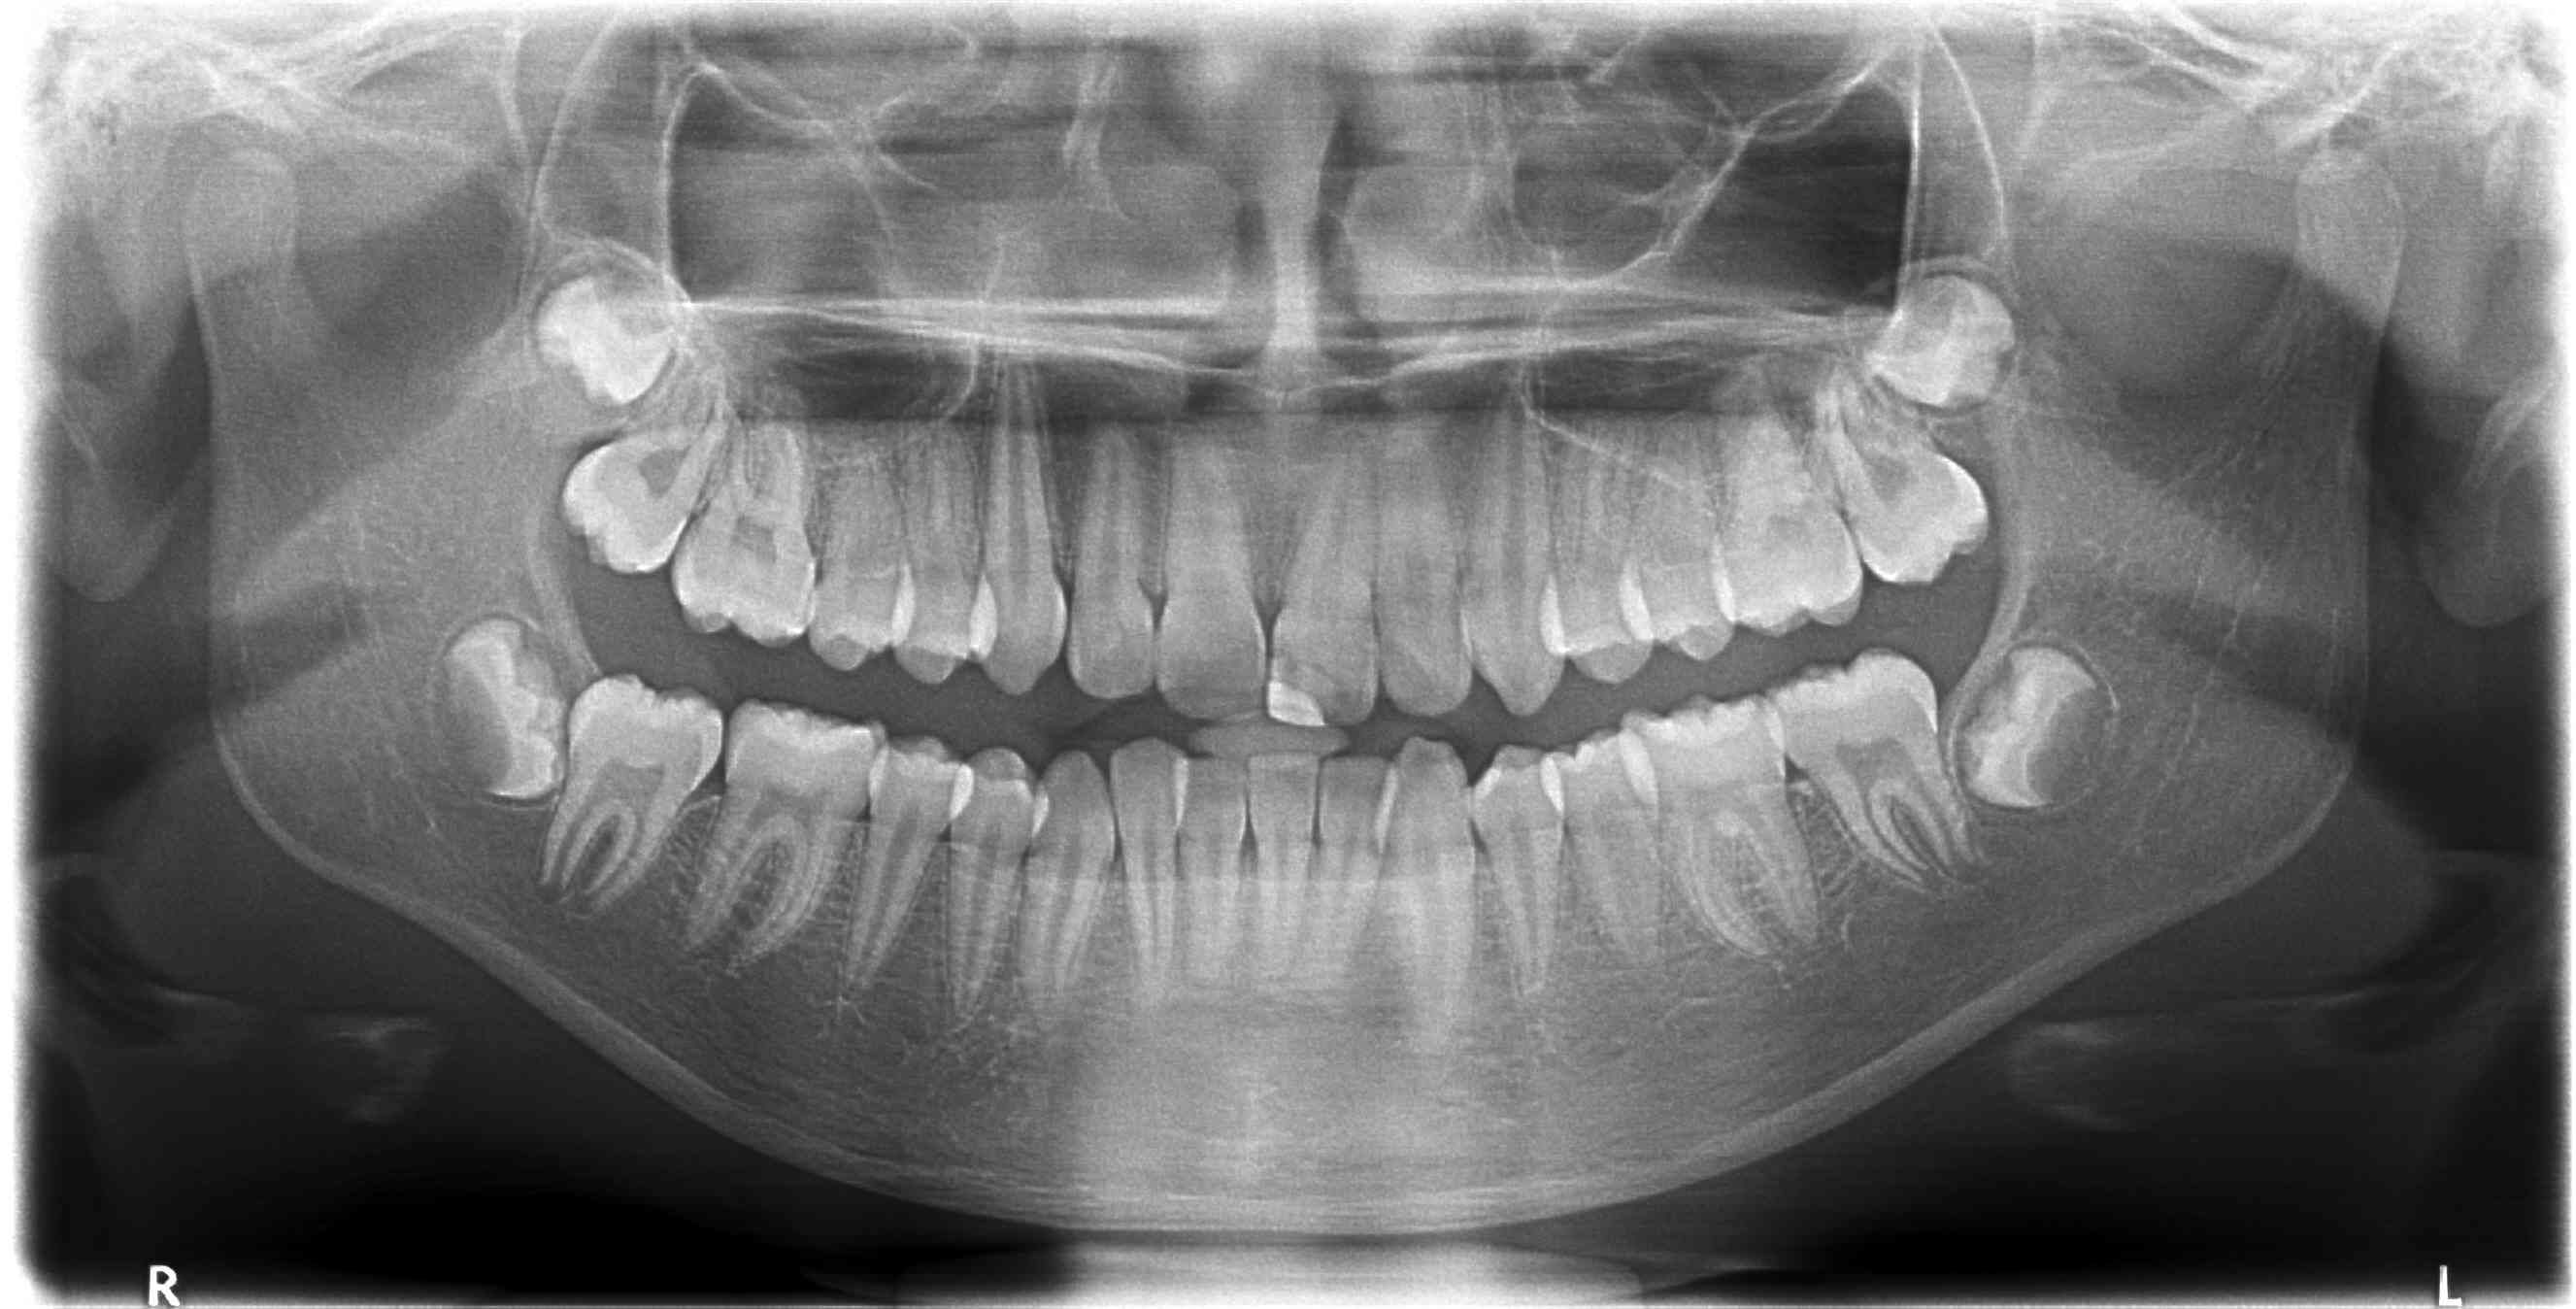canine: (943, 311, 1082, 708), (1449, 367, 1586, 725), (1364, 708, 1496, 1077)
incisor: (1257, 367, 1394, 760), (1351, 357, 1489, 718), (1050, 366, 1182, 728), (1145, 379, 1275, 735), (1082, 693, 1202, 1017), (1311, 723, 1416, 1023), (1227, 725, 1332, 1003), (1164, 741, 1264, 993)
molar: (671, 660, 890, 1027), (1756, 621, 2003, 920), (509, 614, 741, 932), (361, 539, 606, 830), (1606, 688, 1841, 990), (1683, 322, 1876, 651), (1805, 351, 2022, 604), (663, 337, 831, 661), (554, 314, 730, 603), (1930, 614, 2135, 831), (1840, 235, 2060, 437), (498, 240, 700, 444)
premolar: (866, 382, 1017, 695), (793, 349, 927, 698), (835, 673, 972, 1002), (1531, 701, 1674, 1007), (1008, 713, 1129, 1070), (1536, 367, 1658, 698), (1608, 366, 1738, 675), (1456, 720, 1578, 1027), (932, 726, 1050, 1030)
